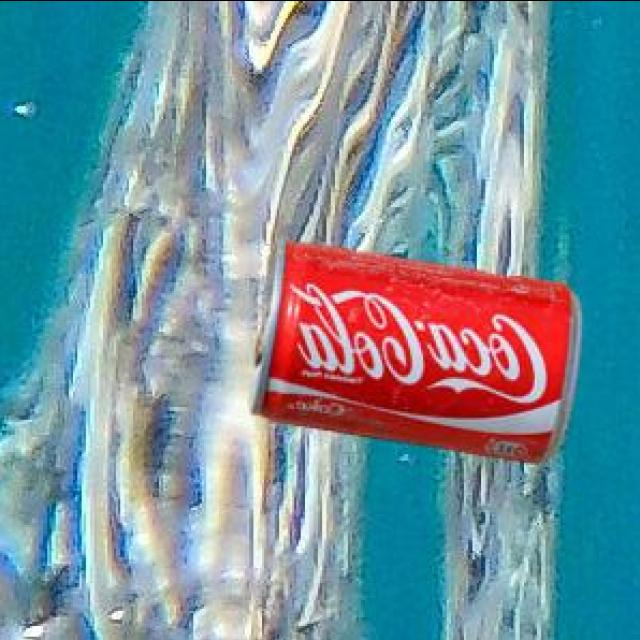logam: (248, 235, 579, 459)
